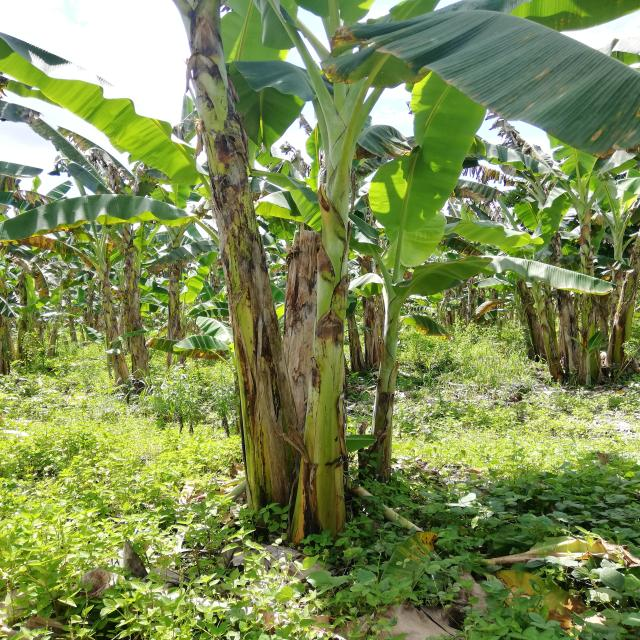Banana-plant: (164, 31, 284, 536), (298, 123, 362, 546), (113, 223, 156, 396), (372, 290, 404, 488), (567, 197, 593, 388)
